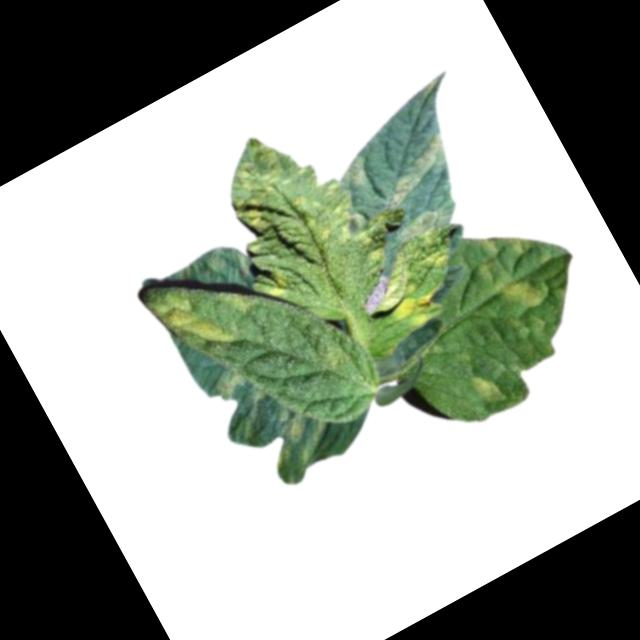Leaf_Mold: (196, 109, 367, 285), (142, 268, 242, 373), (467, 220, 560, 323), (252, 394, 346, 489), (369, 130, 463, 210), (379, 277, 452, 340), (386, 195, 461, 253), (465, 363, 506, 411), (203, 363, 249, 404), (331, 148, 371, 188), (256, 267, 292, 303)
